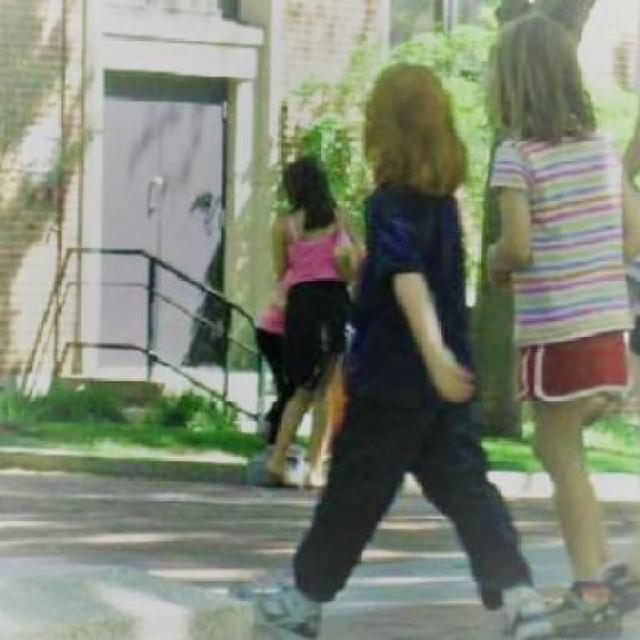Person: (236, 59, 553, 638), (484, 14, 638, 638), (268, 153, 352, 489)
